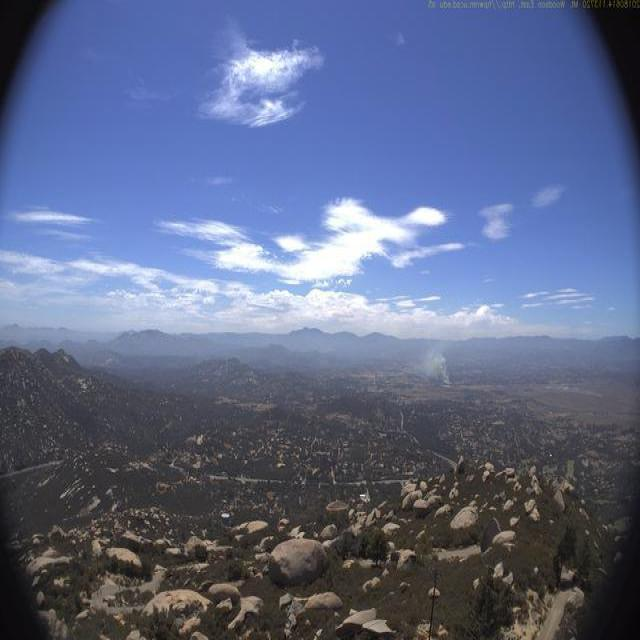Smoke: (415, 339, 456, 388)
